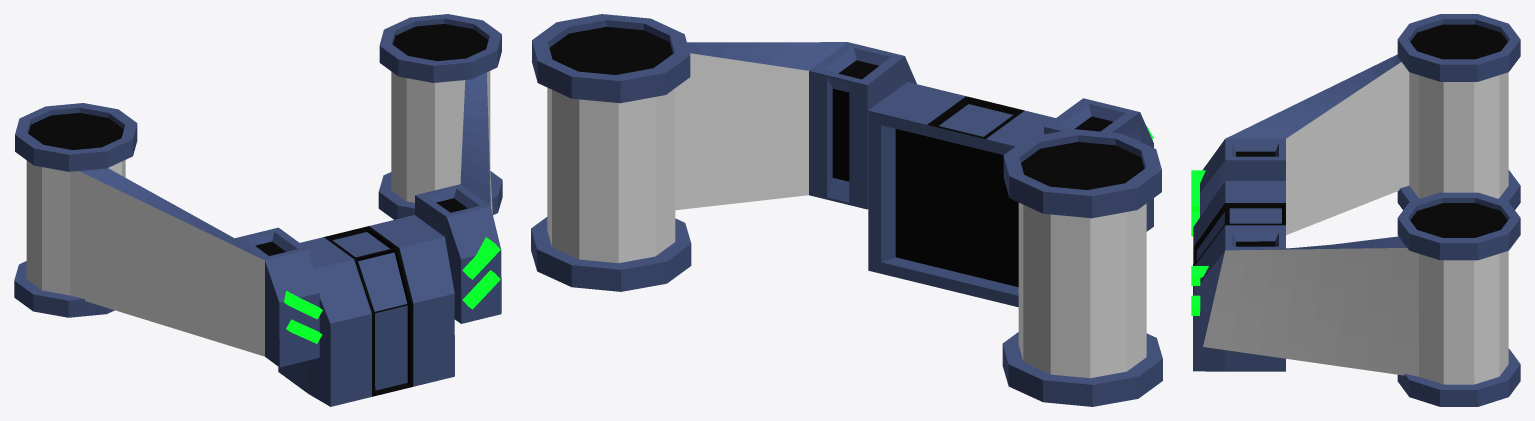
Rendered from БРОНЯ.fbx.
3 views of the same model, side by side, from view 1: azimuth 30°, elevation 25°; view 2: azimuth 150°, elevation 25°; view 3: azimuth 270°, elevation 25° (orthographic). The views are drawn at different scales.
Parts seen in each view (by area): view 1: Cylinder.004; view 2: Cylinder.004; view 3: Cylinder.004.
Boxes of the visible parts, bbox=[...] form: Cylinder.004: bbox=[14, 14, 502, 406]; Cylinder.004: bbox=[531, 14, 1162, 406]; Cylinder.004: bbox=[1191, 14, 1520, 406].
Bounding box in the file's own units: 180 × 77.34 × 109.
